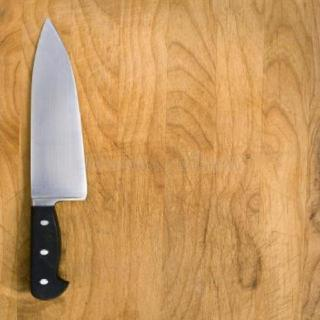knife: (14, 16, 133, 242)
